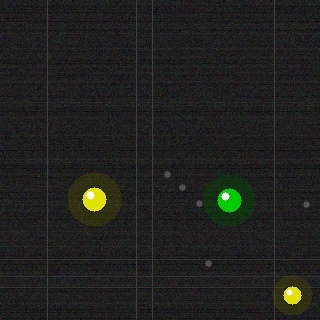green_normal: (215, 186, 243, 214)
yellow_warning: (80, 185, 108, 213), (281, 284, 303, 306)
